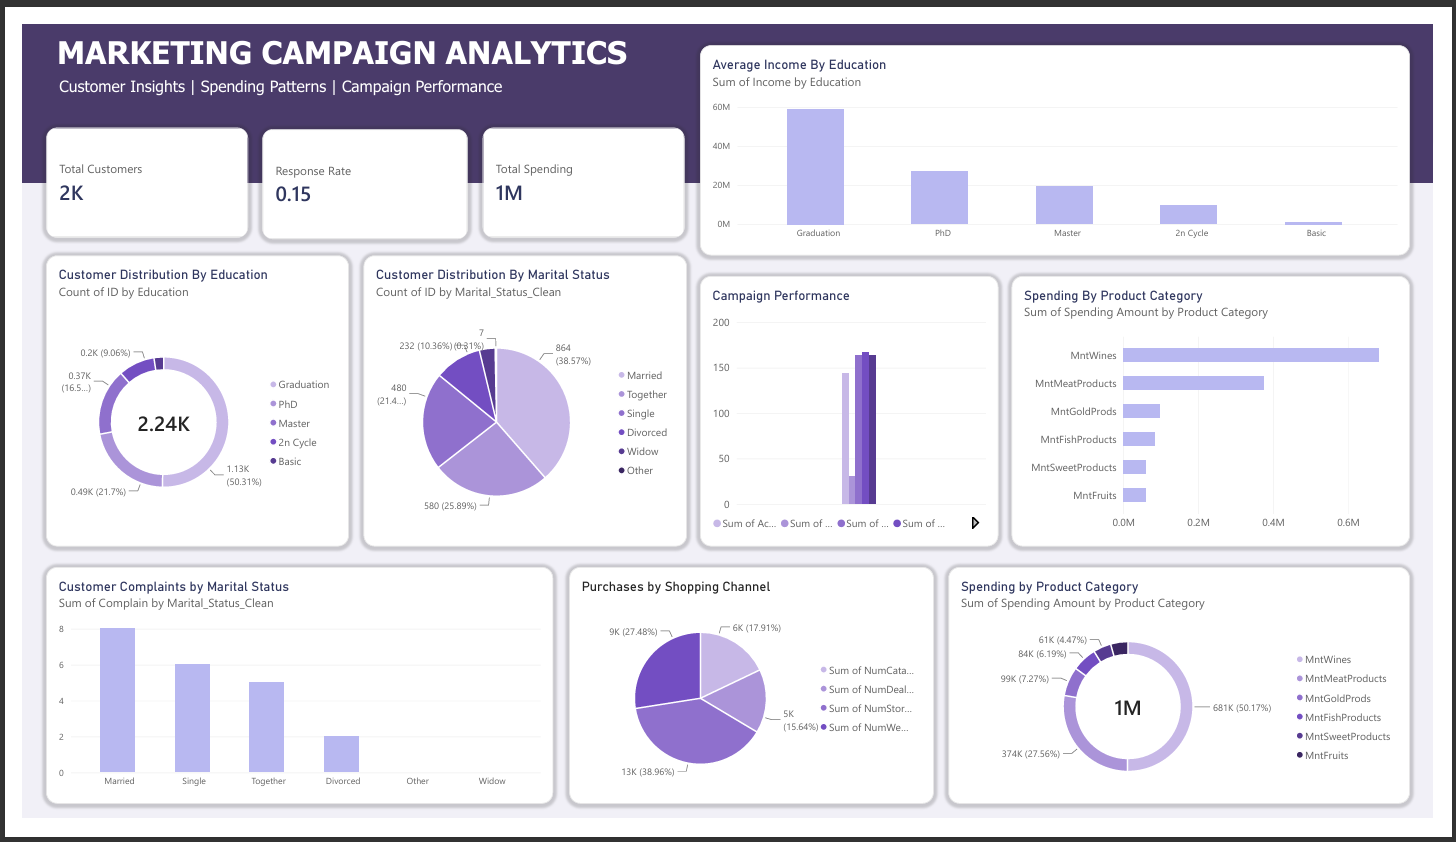

Layout of this report page (visuals, bound fields, positions):
{"tool":"powerbi","page":{"name":"Page 1","canvas":[1920,1080],"ordinal":0},"visuals":[{"type":"textbox","box":[0,0,1919.6,215.2],"z":0},{"type":"donutChart","title":"Spending by Product Category","fields":{"Category":["Product Spending.Product Category"],"Y":["Sum(Product Spending.Spending Amount)"]},"box":[1260,738,628,322],"z":1000},{"type":"clusteredBarChart","title":"Spending By Product Category","fields":{"Category":["Product Spending.Product Category"],"Y":["Sum(Product Spending.Spending Amount)"]},"box":[1346,342,542,368],"z":2000},{"type":"donutChart","title":"Customer Distribution By Education","fields":{"Category":["Marketing_Campaign_Cleaned.Education"],"Y":["CountNonNull(Marketing_Campaign_Cleaned.ID)"]},"box":[32,314,412,396],"z":3000},{"type":"pieChart","title":"Customer Distribution By Marital Status","fields":{"Category":["Marketing_Campaign_Cleaned.Marital_Status_Clean"],"Y":["CountNonNull(Marketing_Campaign_Cleaned.ID)"]},"box":[464,314,440,396],"z":4000},{"type":"clusteredColumnChart","title":"Campaign Performance","fields":{"Y":["Sum(Marketing_Campaign_Cleaned.AcceptedCmp1)","Sum(Marketing_Campaign_Cleaned.AcceptedCmp2)","Sum(Marketing_Campaign_Cleaned.AcceptedCmp3)","Sum(Marketing_Campaign_Cleaned.AcceptedCmp4)","Sum(Marketing_Campaign_Cleaned.AcceptedCmp5)"]},"box":[922,342,406,368],"z":5000},{"type":"clusteredColumnChart","title":"Average Income By Education","fields":{"Category":["Marketing_Campaign_Cleaned.Education"],"Y":["Sum(Marketing_Campaign_Cleaned.Income)"]},"box":[922,28,966,286],"z":6000},{"type":"columnChart","title":"Customer Complaints by Marital Status","fields":{"Category":["Marketing_Campaign_Cleaned.Marital_Status_Clean"],"Y":["Sum(Marketing_Campaign_Cleaned.Complain)"]},"box":[32,738,690,322],"z":7000},{"type":"cardVisual","fields":{"Data":["Marketing_Campaign_Cleaned.Total Spending"]},"box":[626,140,275,150],"z":8000},{"type":"cardVisual","fields":{"Data":["Marketing_Campaign_Cleaned.Response Rate"]},"box":[326,142,280,150],"z":9000},{"type":"cardVisual","fields":{"Data":["Marketing_Campaign_Cleaned.Total Customers"]},"box":[32,140,275,150],"z":10000},{"type":"pieChart","title":"Purchases by Shopping Channel","fields":{"Y":["Sum(Marketing_Campaign_Cleaned.NumCatalogPurchases)","Sum(Marketing_Campaign_Cleaned.NumDealsPurchases)","Sum(Marketing_Campaign_Cleaned.NumStorePurchases)","Sum(Marketing_Campaign_Cleaned.NumWebPurchases)"]},"box":[744,738,496,322],"z":11000}]}

Visuals, with their boxes in screenshot pixels (x1, y1, x2, y2), scaled from the page's 1920x1080 canvas onto the 1456x842 screenshot:
textbox: {"x1": 0, "y1": 0, "x2": 1455, "y2": 168}
"Spending by Product Category" donutChart: {"x1": 956, "y1": 575, "x2": 1432, "y2": 826}
"Spending By Product Category" clusteredBarChart: {"x1": 1021, "y1": 267, "x2": 1432, "y2": 554}
"Customer Distribution By Education" donutChart: {"x1": 24, "y1": 245, "x2": 337, "y2": 554}
"Customer Distribution By Marital Status" pieChart: {"x1": 352, "y1": 245, "x2": 686, "y2": 554}
"Campaign Performance" clusteredColumnChart: {"x1": 699, "y1": 267, "x2": 1007, "y2": 554}
"Average Income By Education" clusteredColumnChart: {"x1": 699, "y1": 22, "x2": 1432, "y2": 245}
"Customer Complaints by Marital Status" columnChart: {"x1": 24, "y1": 575, "x2": 548, "y2": 826}
cardVisual - Marketing_Campaign_Cleaned.Total Spending: {"x1": 475, "y1": 109, "x2": 683, "y2": 226}
cardVisual - Marketing_Campaign_Cleaned.Response Rate: {"x1": 247, "y1": 111, "x2": 460, "y2": 228}
cardVisual - Marketing_Campaign_Cleaned.Total Customers: {"x1": 24, "y1": 109, "x2": 233, "y2": 226}
"Purchases by Shopping Channel" pieChart: {"x1": 564, "y1": 575, "x2": 940, "y2": 826}
